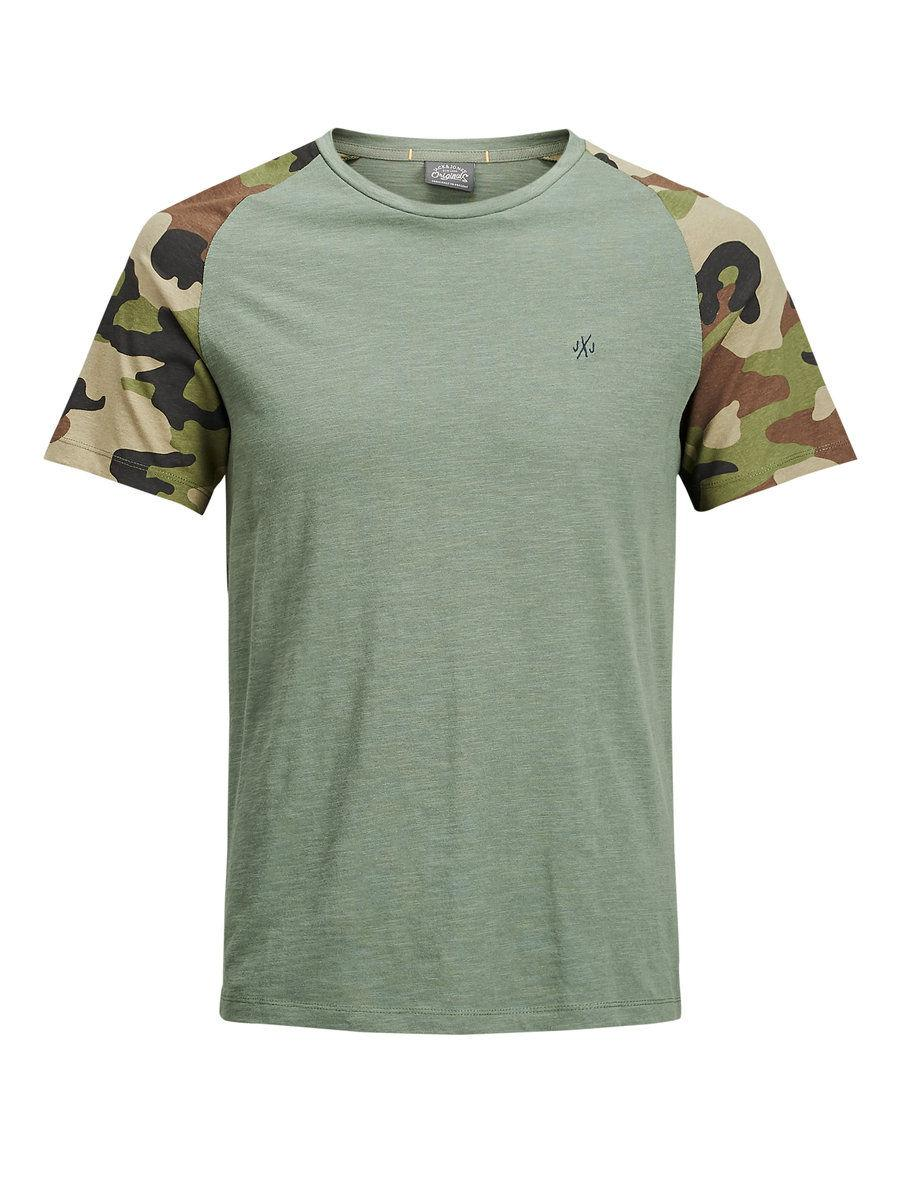teeshirt: (23, 131, 872, 1093)
